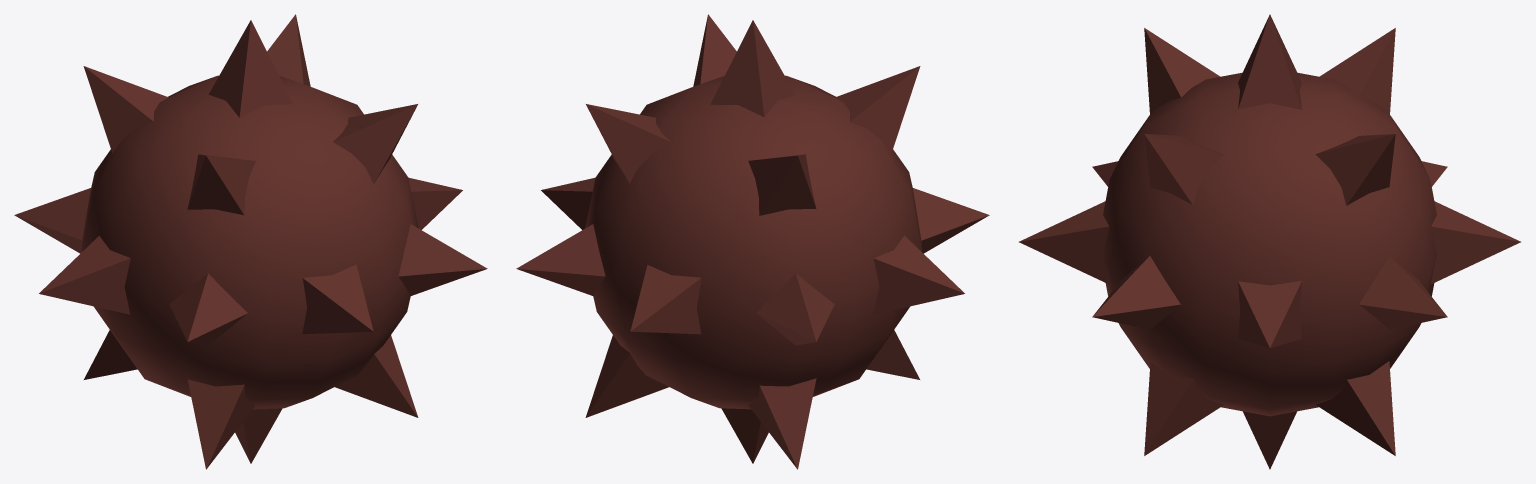
Rendered from Seamine.fbx.
3 renders of one model, left to right at view 1: azimuth 30°, elevation 25°; view 2: azimuth 150°, elevation 25°; view 3: azimuth 270°, elevation 25°, orthographic. The views are drawn at different scales.
Parts seen in each view (by area): view 1: Seamine; view 2: Seamine; view 3: Seamine.
Boxes of the visible parts, x1=… form: Seamine: x1=14, y1=14, x2=487, y2=469; Seamine: x1=516, y1=14, x2=989, y2=469; Seamine: x1=1019, y1=14, x2=1520, y2=469.
Bounding box in the file's own units: 0.0604 × 0.0604 × 0.0604.
